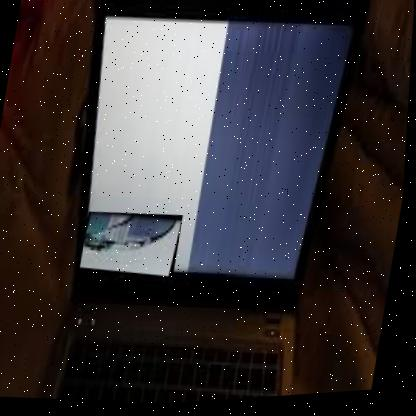crack: (81, 207, 186, 285)
